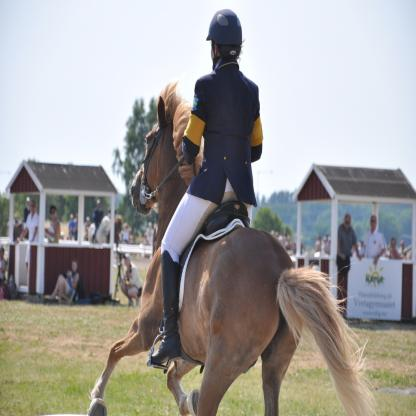Helmet: (208, 9, 248, 66)
